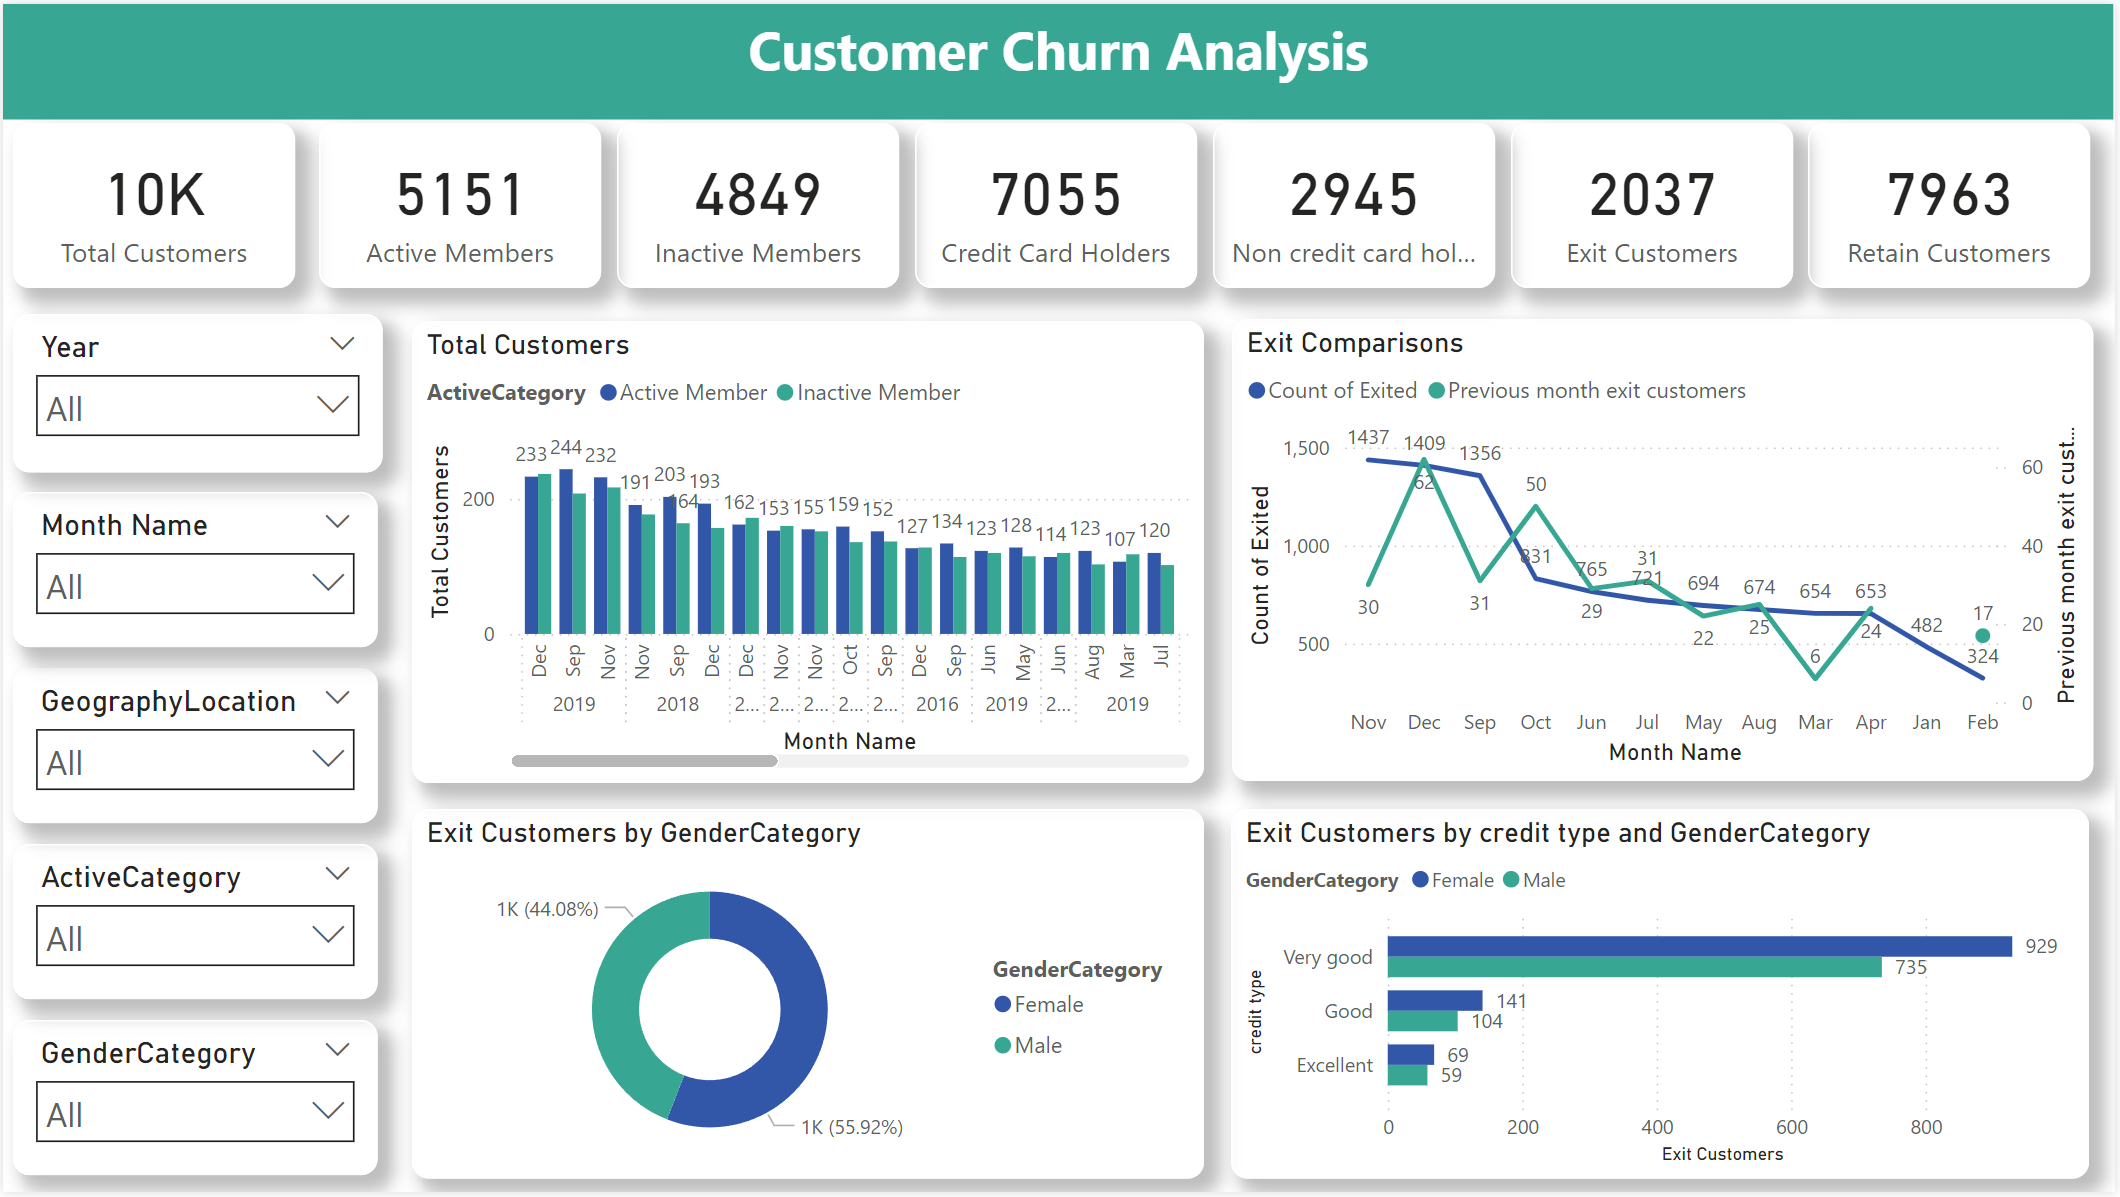

The dashboard page shown, as its layout file describes it:
{"tool":"powerbi","page":{"name":"Customer Churn Analysis","canvas":[1280,720],"ordinal":0},"visuals":[{"type":"textbox","box":[0,0,1279.4,69.9],"z":0},{"type":"card","fields":{"Values":["Active customers.Total Customers"]},"box":[6.2,72,171,100],"z":1000},{"type":"card","fields":{"Values":["Active customers.Active Members"]},"box":[191.7,72,171,100],"z":2000},{"type":"card","fields":{"Values":["Active customers.Inactive Members"]},"box":[372.2,72,171,100],"z":3000},{"type":"card","fields":{"Values":["Active customers.Credit Card Holders"]},"box":[552.7,72,171,100],"z":4000},{"type":"card","fields":{"Values":["Active customers.Non credit card holders"]},"box":[733.2,72,171,100],"z":5000},{"type":"card","fields":{"Values":["Active customers.Exit Customers"]},"box":[913.7,72,171,100],"z":6000},{"type":"card","fields":{"Values":["Active customers.Retain Customers"]},"box":[1094.2,72,171,100],"z":7000},{"type":"slicer","fields":{"Values":["Date Master.Year"]},"box":[6,187.7,224,96],"z":8000},{"type":"slicer","fields":{"Values":["Geography.GeographyLocation"]},"box":[6,402.6,221.1,94.5],"z":9000},{"type":"slicer","fields":{"Values":["Date Master.Month Name"]},"box":[6,295.9,221.1,94.5],"z":10000},{"type":"slicer","fields":{"Values":["Active customers.ActiveCategory"]},"box":[6,509.3,221.1,94.5],"z":11000},{"type":"slicer","fields":{"Values":["Gender.GenderCategory"]},"box":[6,616,221.1,94.5],"z":12000},{"type":"clusteredColumnChart","title":"Total Customers ","fields":{"Category":["Date Master.Year","Date Master.Month Name"],"Y":["Active customers.Total Customers"],"Series":["Active customers.ActiveCategory"]},"box":[248,192,480,280],"z":13000},{"type":"lineChart","title":"Exit Comparisons","fields":{"Category":["Date Master.Month Name"],"Y":["CountNonNull(Bank_Churn.Exited)"],"Y2":["Active customers.Previous month exit customers"]},"box":[744.6,190.9,521.6,279.7],"z":14000},{"type":"donutChart","fields":{"Y":["Active customers.Exit Customers"],"Category":["Gender.GenderCategory"]},"box":[248,488,480,224],"z":15000},{"type":"clusteredBarChart","fields":{"Y":["Active customers.Exit Customers"],"Category":["Bank_Churn.credit type"],"Series":["Gender.GenderCategory"]},"box":[744,488,520,224],"z":16000}]}

Visuals, with their boxes in screenshot pixels (x1, y1, x2, y2), scaled from the page's 1280x720 canvas onto the 2120x1197 screenshot:
textbox: <bbox>0, 0, 2119, 116</bbox>
card - Active customers.Total Customers: <bbox>10, 120, 293, 286</bbox>
card - Active customers.Active Members: <bbox>318, 120, 601, 286</bbox>
card - Active customers.Inactive Members: <bbox>616, 120, 900, 286</bbox>
card - Active customers.Credit Card Holders: <bbox>915, 120, 1199, 286</bbox>
card - Active customers.Non credit card holders: <bbox>1214, 120, 1498, 286</bbox>
card - Active customers.Exit Customers: <bbox>1513, 120, 1797, 286</bbox>
card - Active customers.Retain Customers: <bbox>1812, 120, 2095, 286</bbox>
slicer - Date Master.Year: <bbox>10, 312, 381, 472</bbox>
slicer - Geography.GeographyLocation: <bbox>10, 669, 376, 826</bbox>
slicer - Date Master.Month Name: <bbox>10, 492, 376, 649</bbox>
slicer - Active customers.ActiveCategory: <bbox>10, 847, 376, 1004</bbox>
slicer - Gender.GenderCategory: <bbox>10, 1024, 376, 1181</bbox>
"Total Customers " clusteredColumnChart: <bbox>411, 319, 1206, 785</bbox>
"Exit Comparisons" lineChart: <bbox>1233, 317, 2097, 782</bbox>
donutChart - Active customers.Exit Customers x Gender.GenderCategory: <bbox>411, 811, 1206, 1184</bbox>
clusteredBarChart - Active customers.Exit Customers x Bank_Churn.credit type: <bbox>1232, 811, 2094, 1184</bbox>
